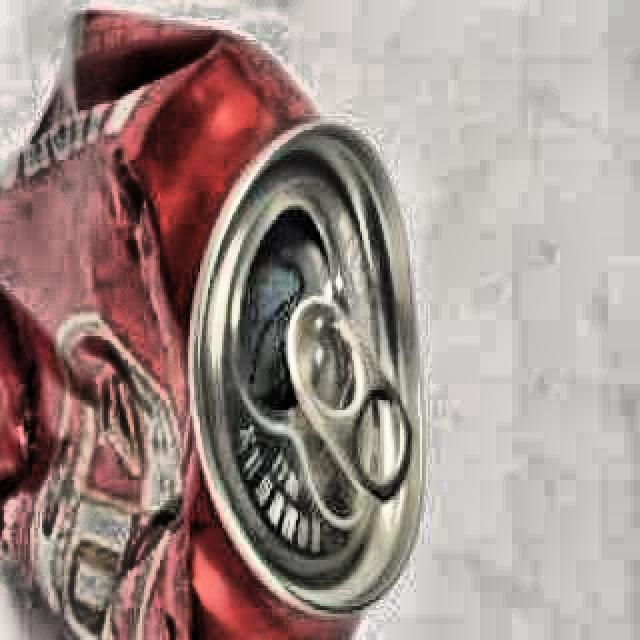metal: (0, 10, 428, 640)
